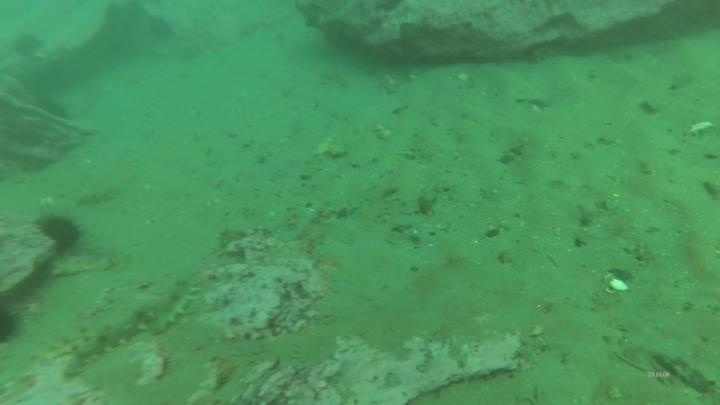echinus: (35, 211, 85, 254), (0, 304, 24, 348)
holothurian: (55, 302, 158, 377), (139, 270, 204, 338), (48, 246, 122, 281), (74, 182, 125, 209)
